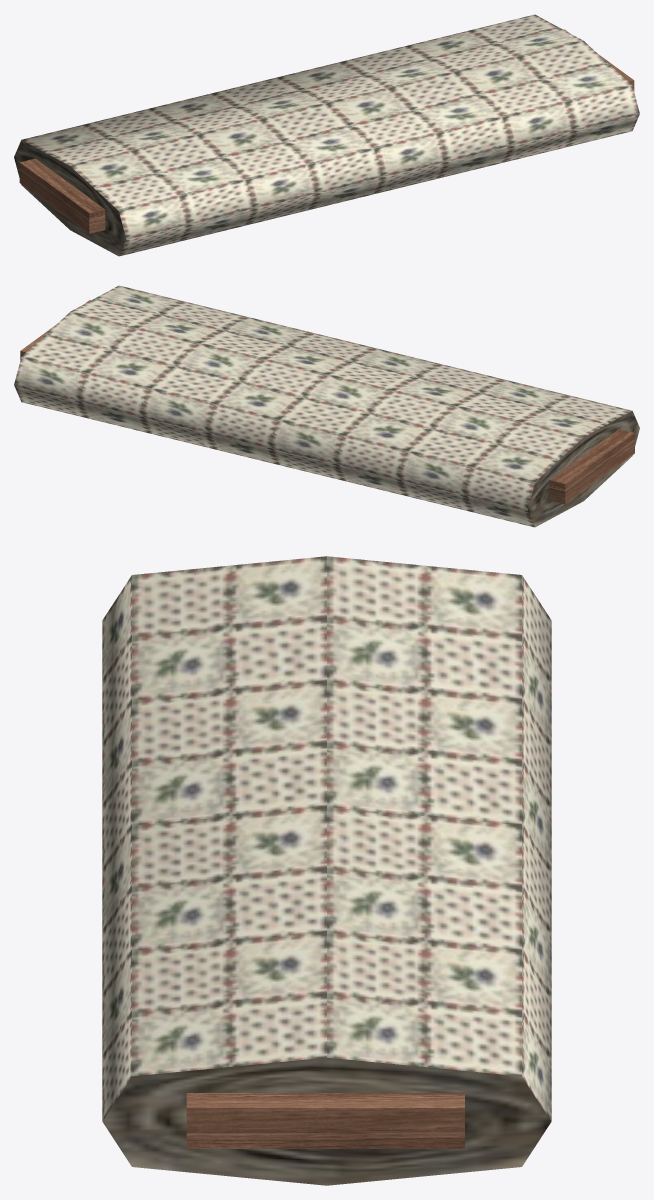
Rendered from shop_tailor_fabricBolt02.fbx.
3 views of the same model, one above another, from view 1: azimuth 30°, elevation 25°; view 2: azimuth 150°, elevation 25°; view 3: azimuth 270°, elevation 25° (orthographic). The views are drawn at different scales.
Parts seen in each view (by area): view 1: bolt_fabric, bolt_wood; view 2: bolt_fabric, bolt_wood; view 3: bolt_fabric, bolt_wood.
Boxes of the visible parts, x1,y1,x2,y2 form: bolt_fabric: (14,14,639,256); bolt_wood: (19,29,634,233); bolt_fabric: (14,285,639,527); bolt_wood: (20,300,634,504); bolt_fabric: (102,556,551,1185); bolt_wood: (186,1093,464,1148).
Bounding box in the file's own units: 386 × 43.4 × 138.
1 material, 1 textured.
